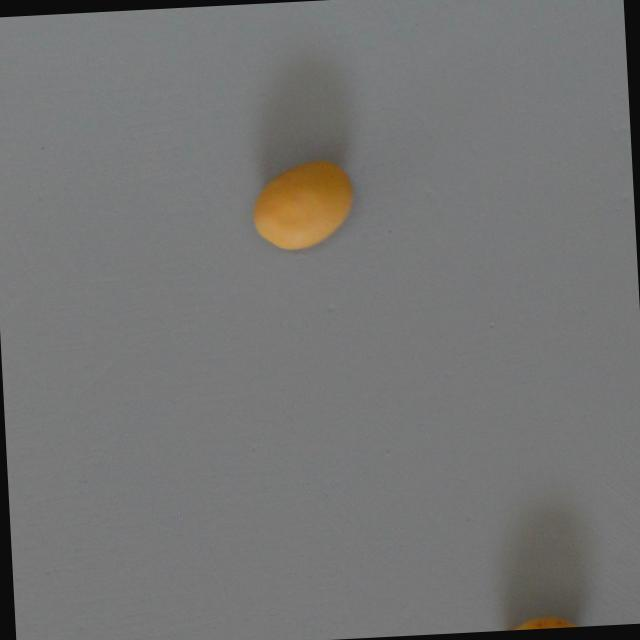cuerpos_extranos: (247, 151, 357, 257), (491, 602, 596, 631)
